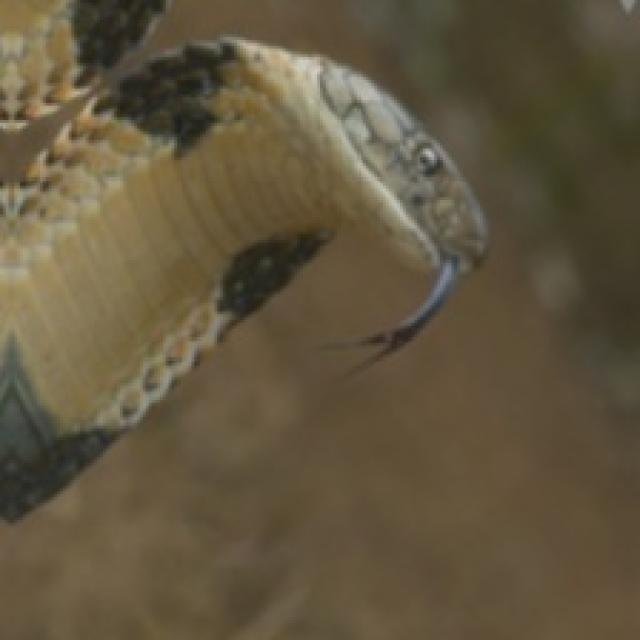king cobra: (0, 0, 486, 517)
